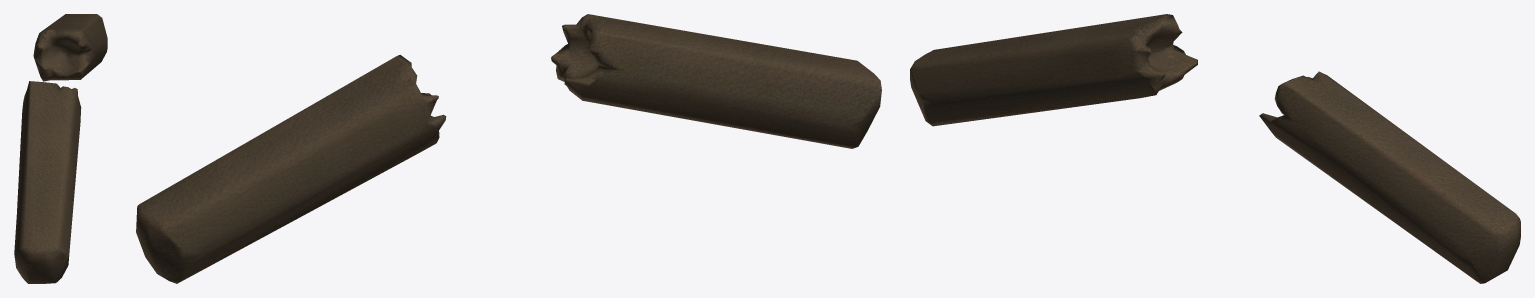
Rendered from Chalk broken in half.fbx.
The picture shows the model from 3 angles, left to right: view 1: azimuth 30°, elevation 25°; view 2: azimuth 150°, elevation 25°; view 3: azimuth 270°, elevation 25°; orthographic projection. The views are drawn at different scales.
Visible parts, largest first — view 1: tripo_node_eda40404-d0ab-476a-85c0-e2f743024a8b; view 2: tripo_node_eda40404-d0ab-476a-85c0-e2f743024a8b; view 3: tripo_node_eda40404-d0ab-476a-85c0-e2f743024a8b.
Boxes of the visible parts, <box> form: tripo_node_eda40404-d0ab-476a-85c0-e2f743024a8b: <box>14,14,107,283</box>; tripo_node_eda40404-d0ab-476a-85c0-e2f743024a8b: <box>136,14,881,283</box>; tripo_node_eda40404-d0ab-476a-85c0-e2f743024a8b: <box>910,14,1520,283</box>.
Size of the model in its own units: 72.46 by 27.93 by 99.8.
Materials: 1 (1 with a texture image).
